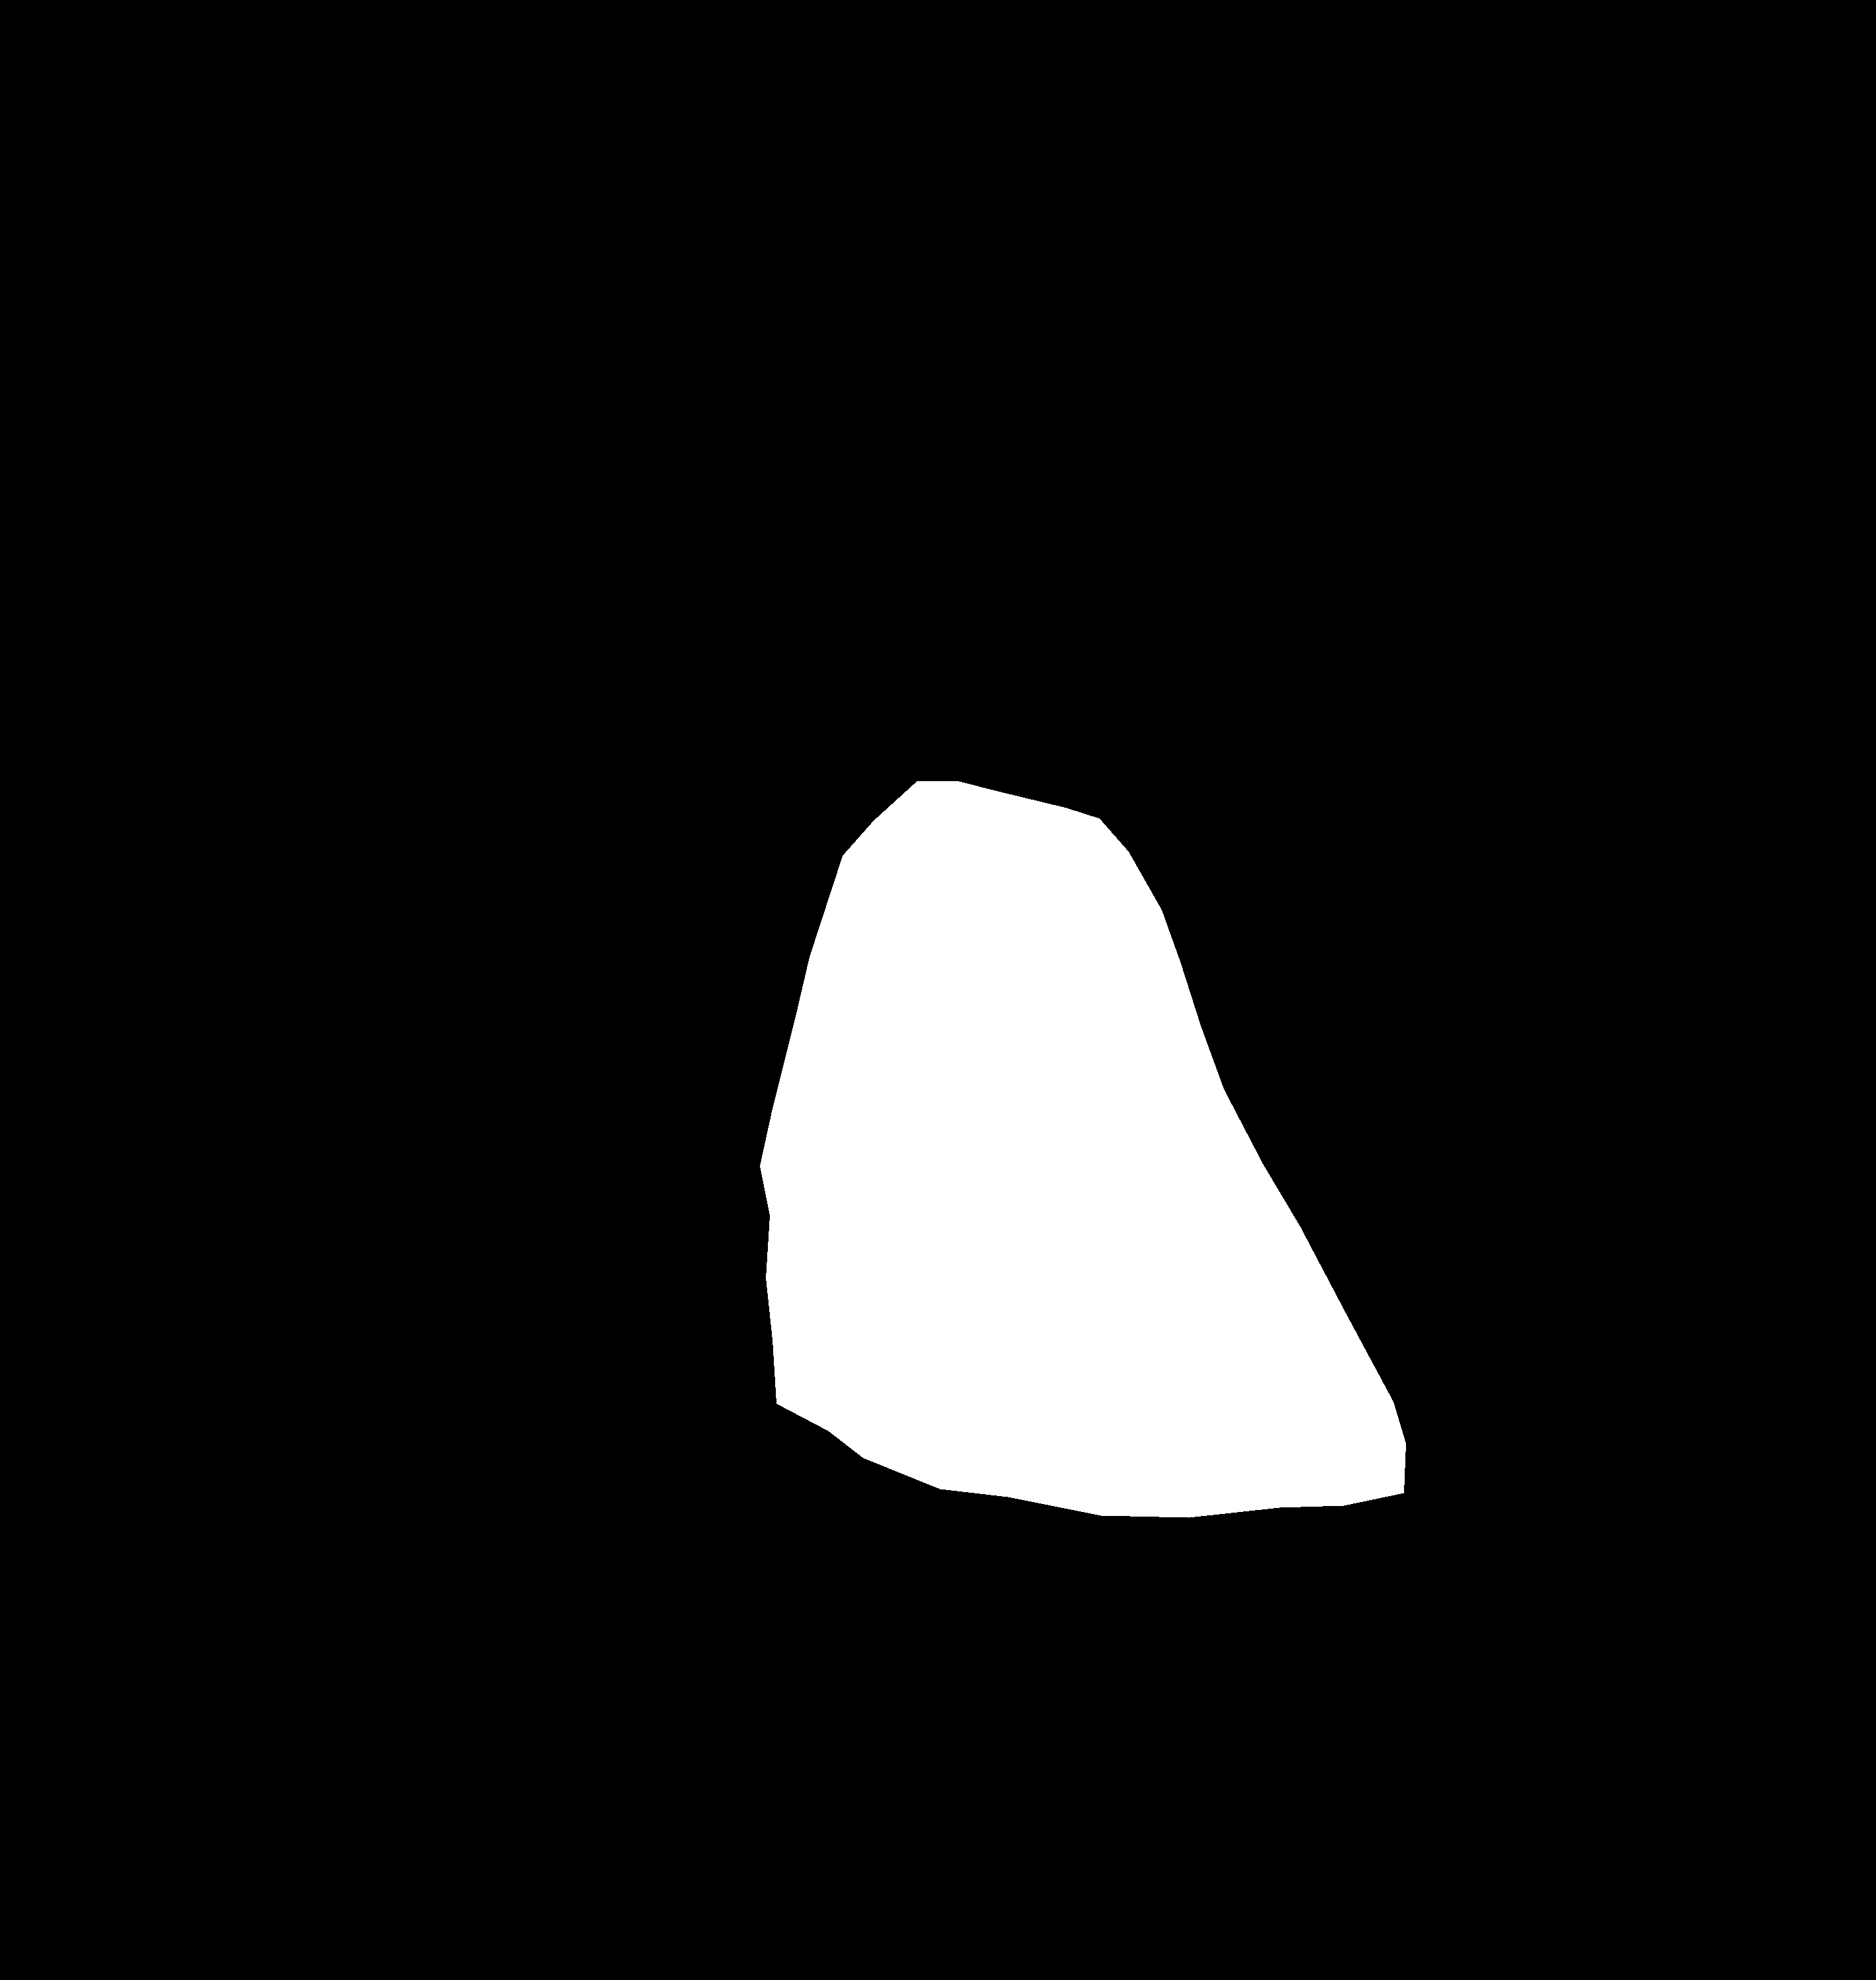heart: (760, 781, 1405, 1518)
left_lung: (249, 197, 848, 1754)
right_lung: (1054, 222, 1652, 1726)
